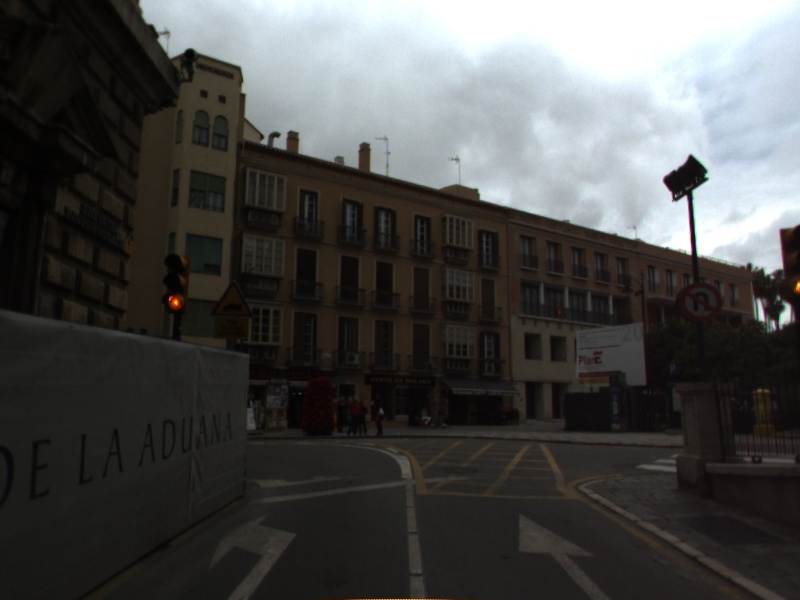LEFT: (207, 510, 299, 600)
STRAIGHT: (517, 511, 610, 600)
